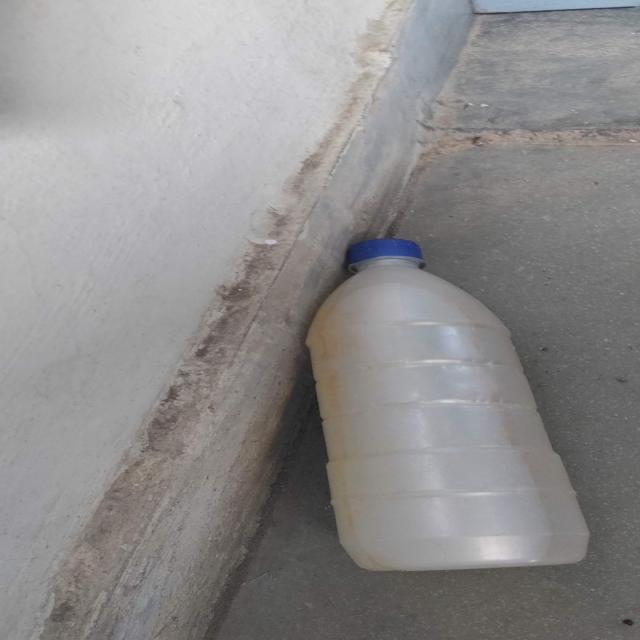plastic: (307, 240, 589, 572)
